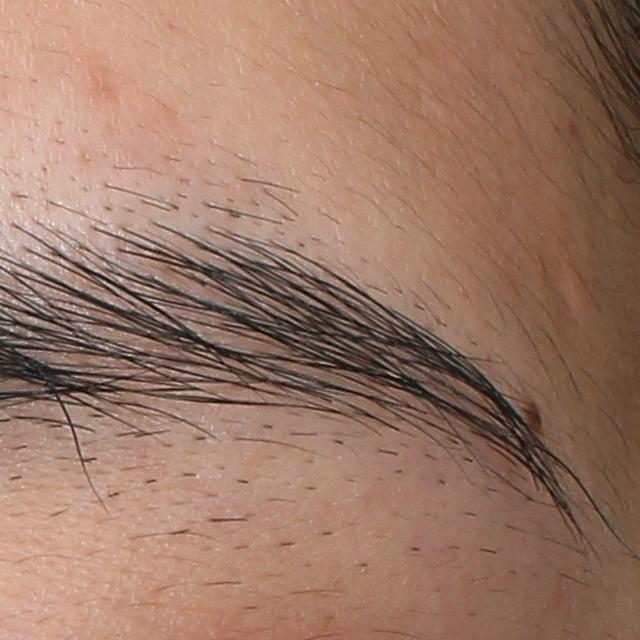atrophic_scar: (537, 255, 582, 316)
nevus: (527, 402, 545, 434)
